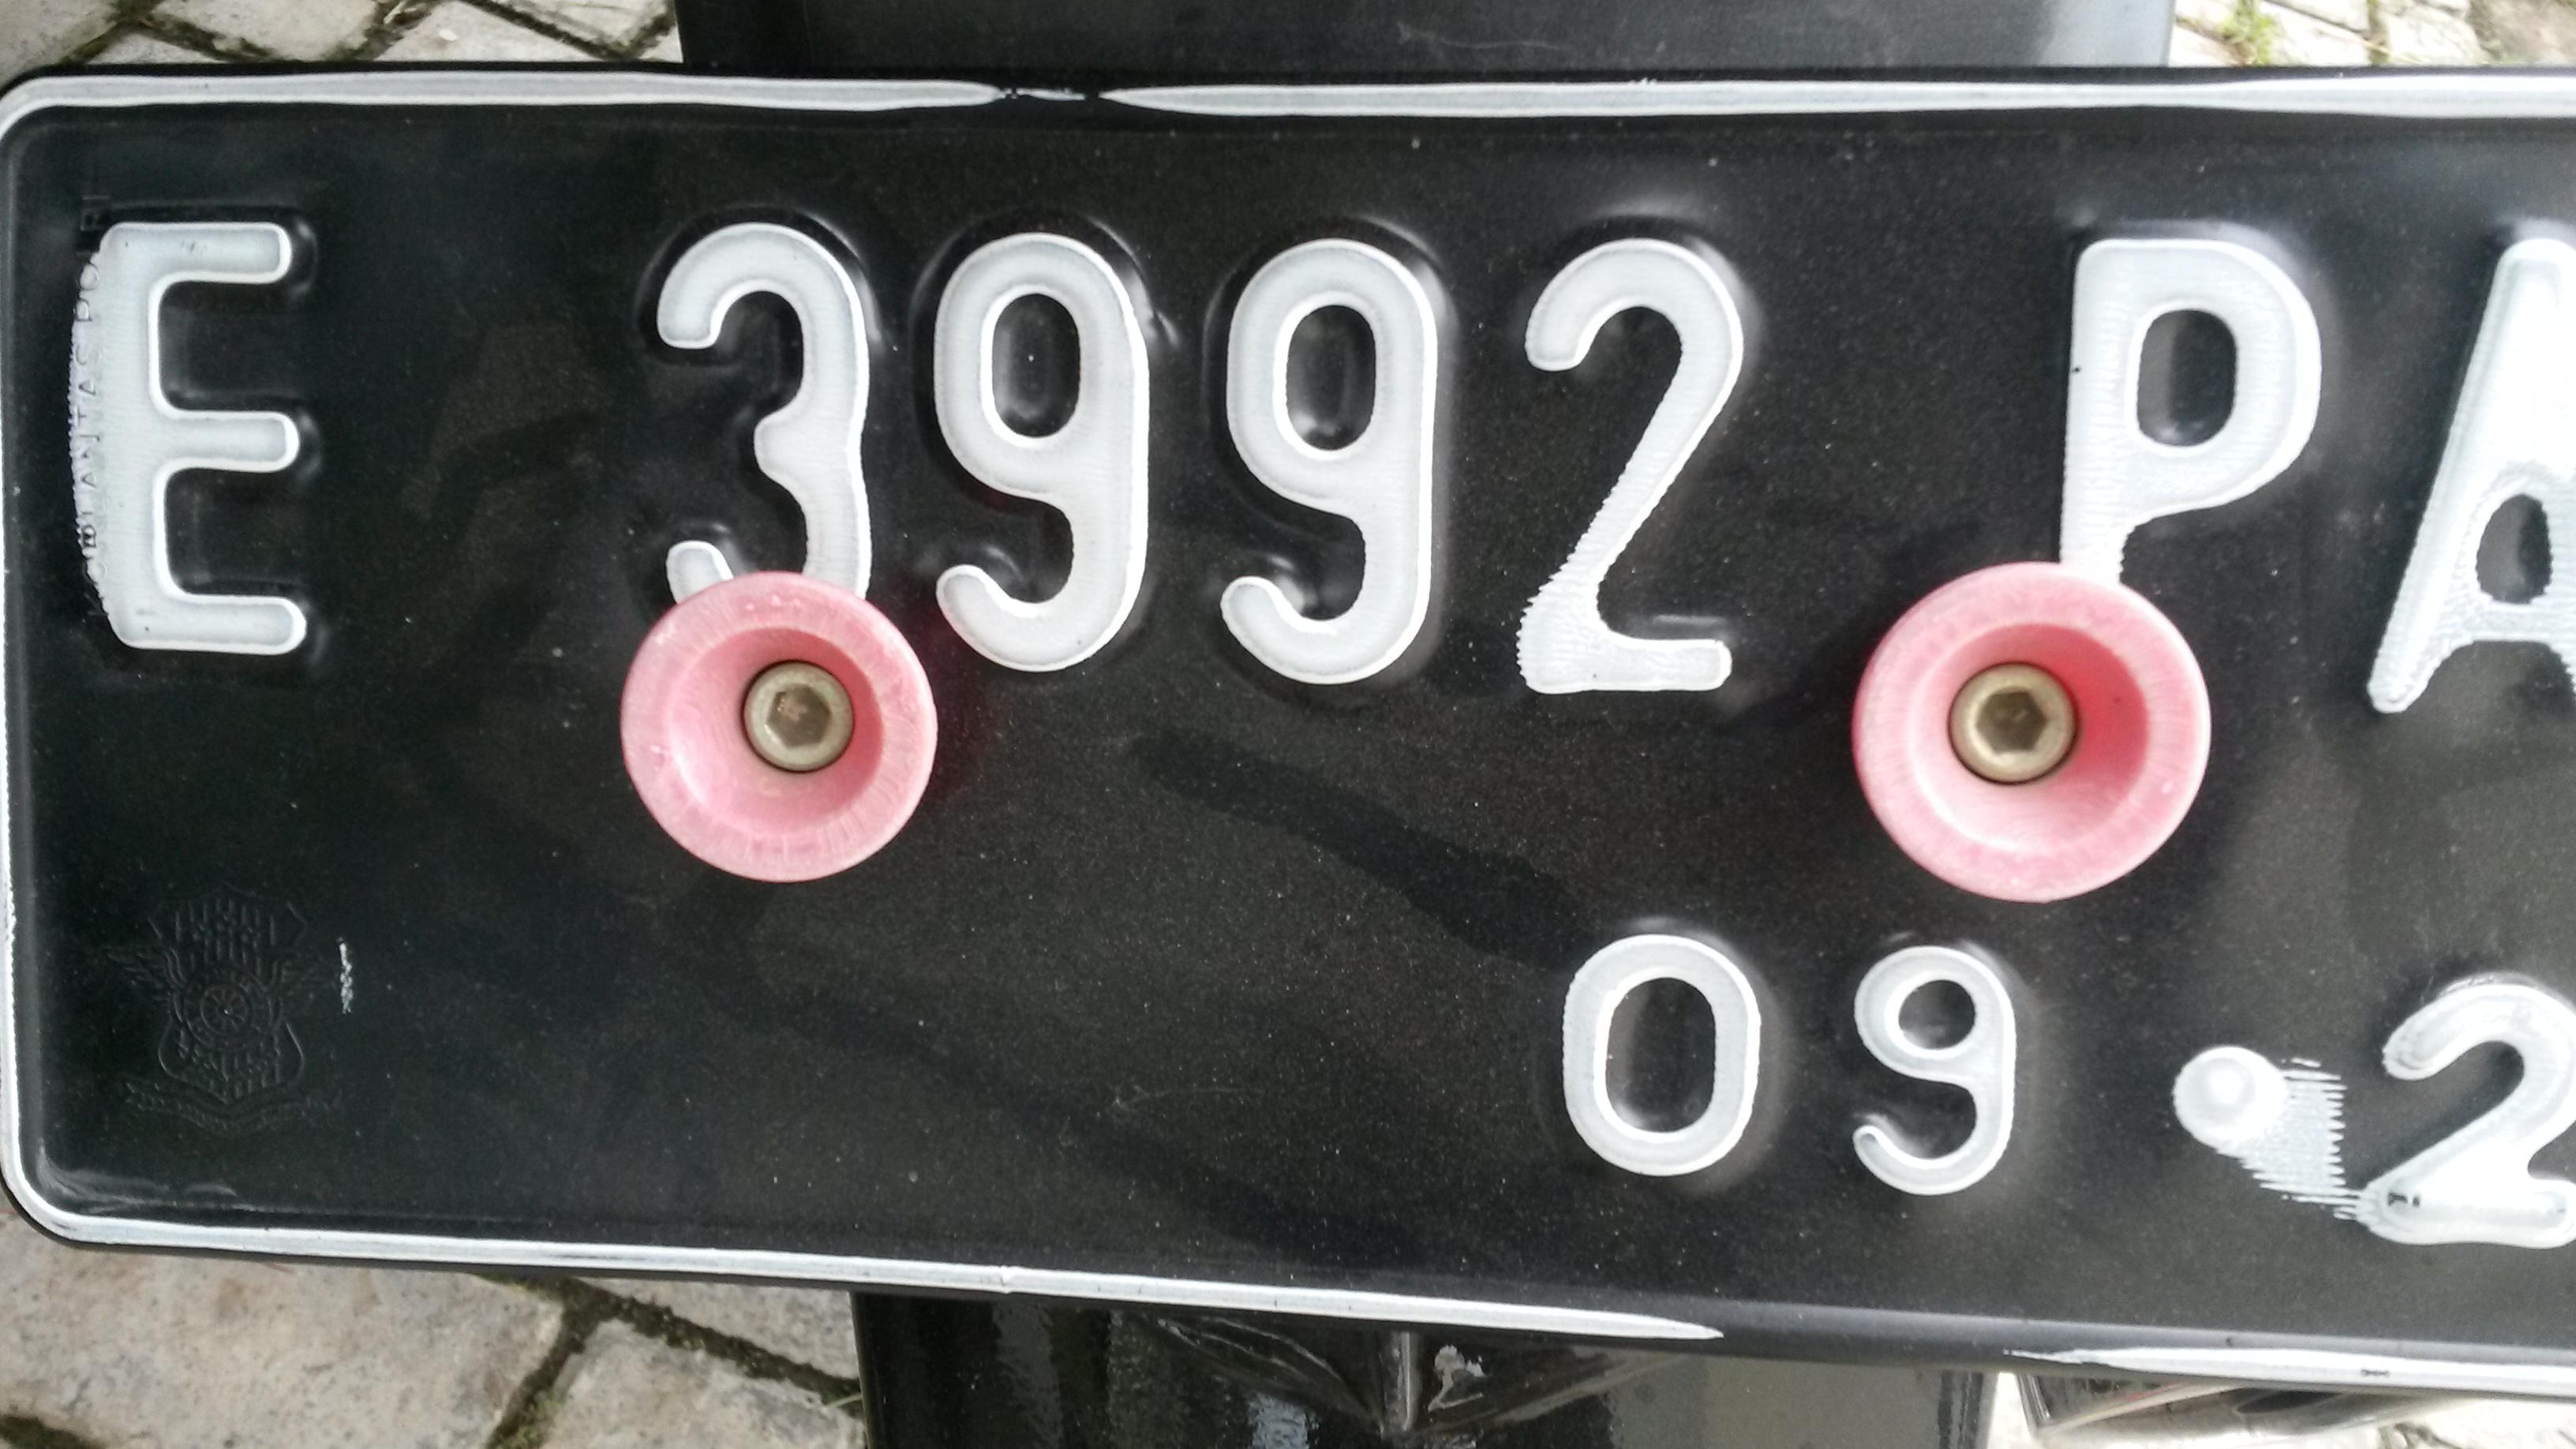clone-license-plate: (2, 62, 2574, 1402)
